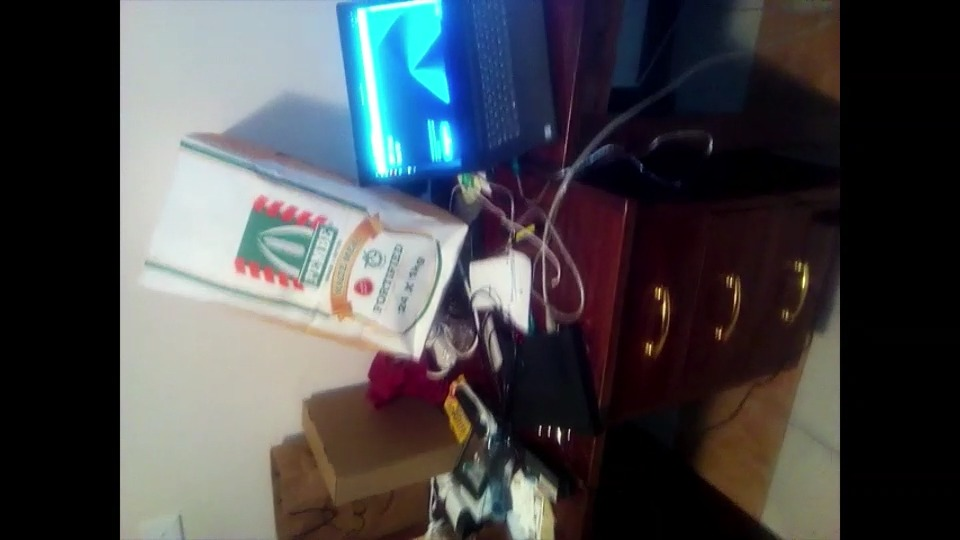maize_flour_green_label: (135, 135, 469, 359)
